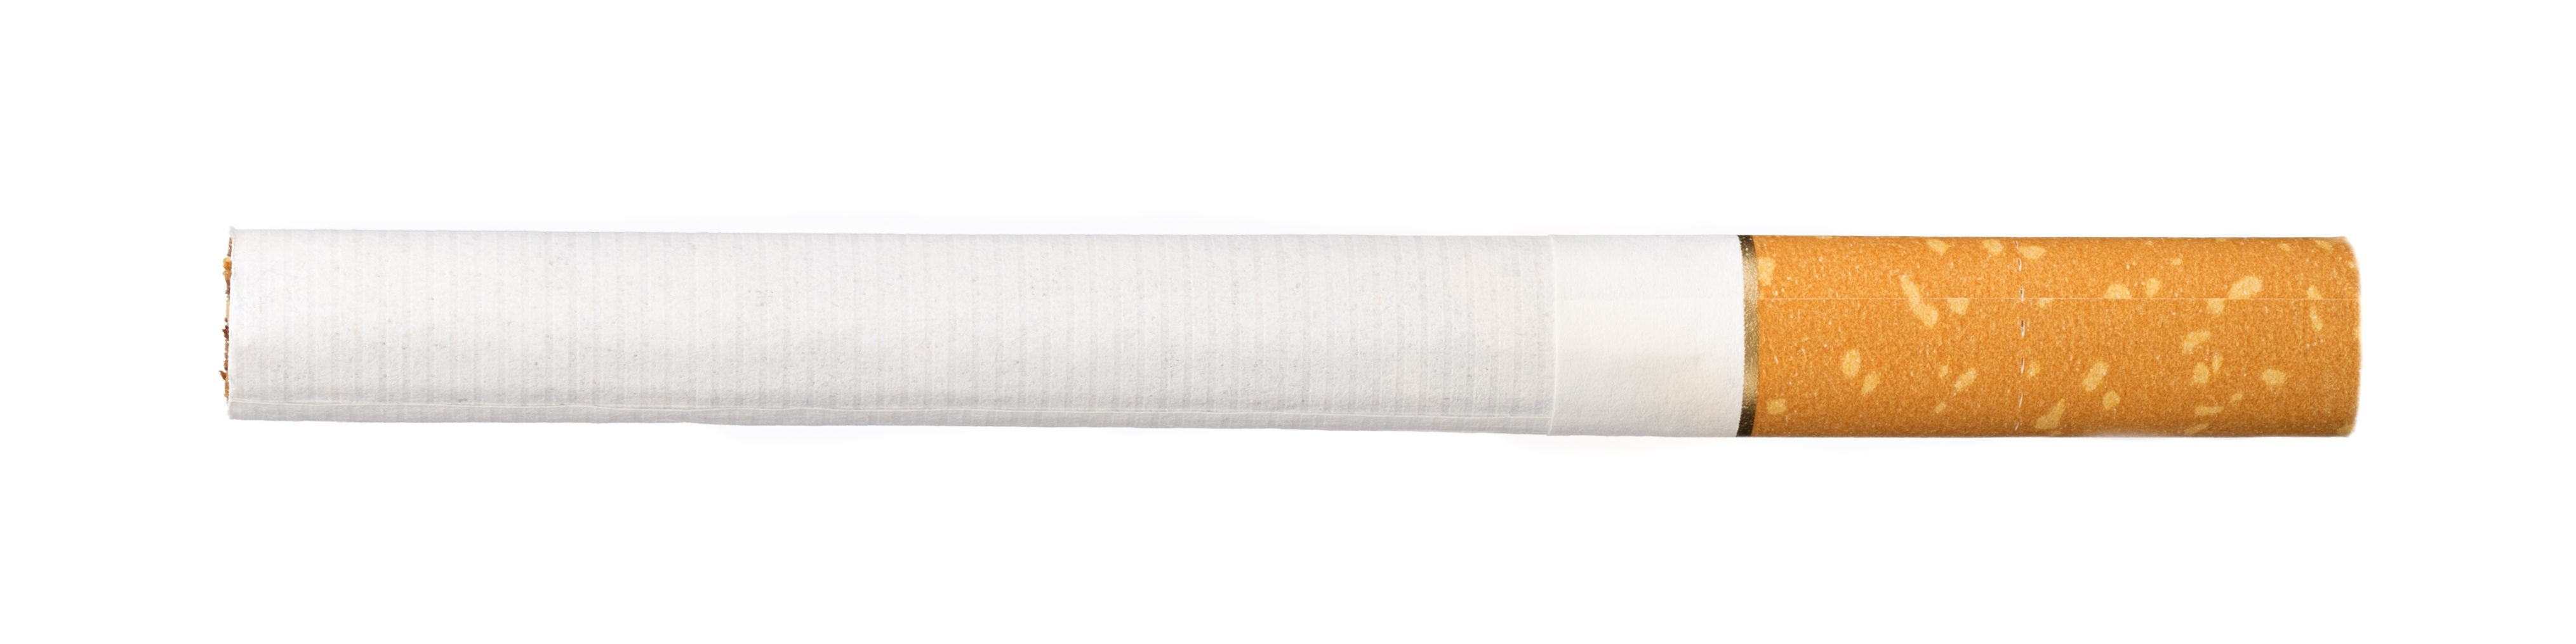cigarette: (128, 159, 2497, 514)
